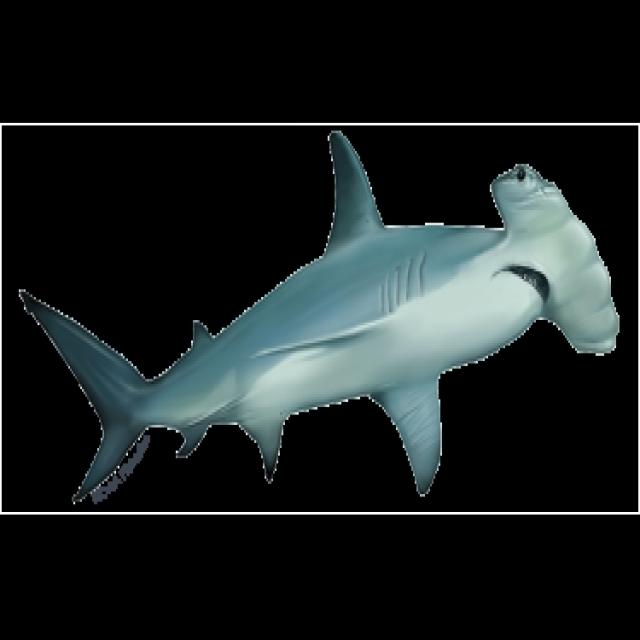gaviota: (20, 131, 618, 499)
